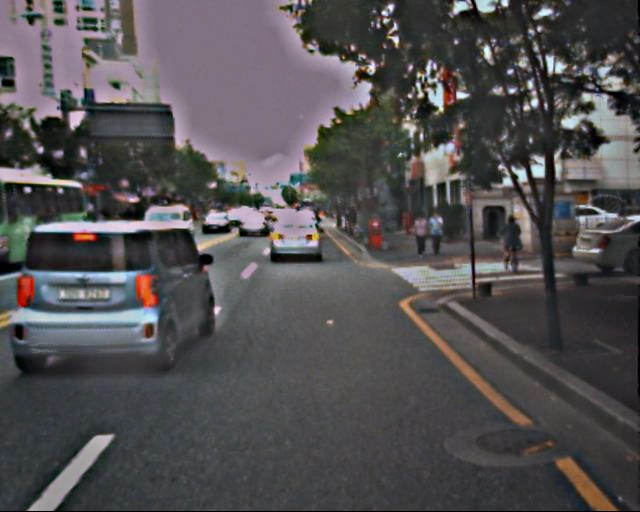person: (502, 215, 524, 269), (411, 212, 431, 260), (426, 211, 446, 259)
